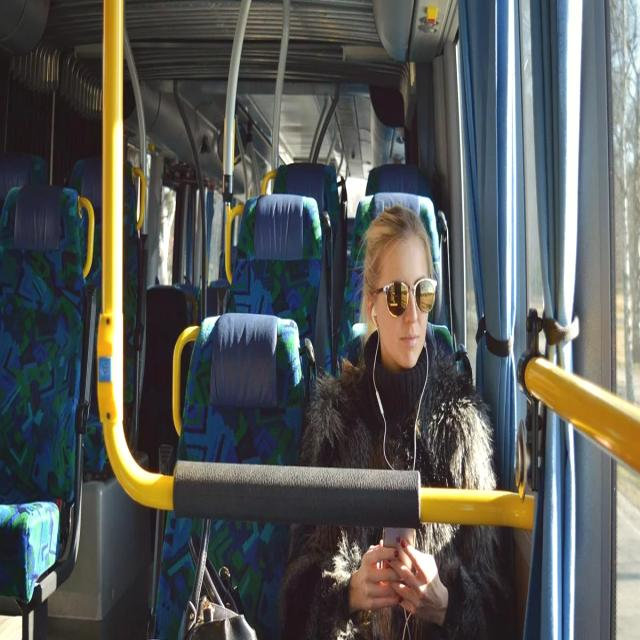asiento-libre: (152, 312, 306, 640), (0, 184, 90, 608), (68, 153, 138, 480), (219, 193, 325, 385), (341, 192, 446, 360), (272, 160, 343, 334), (364, 164, 436, 200), (0, 154, 47, 194)
